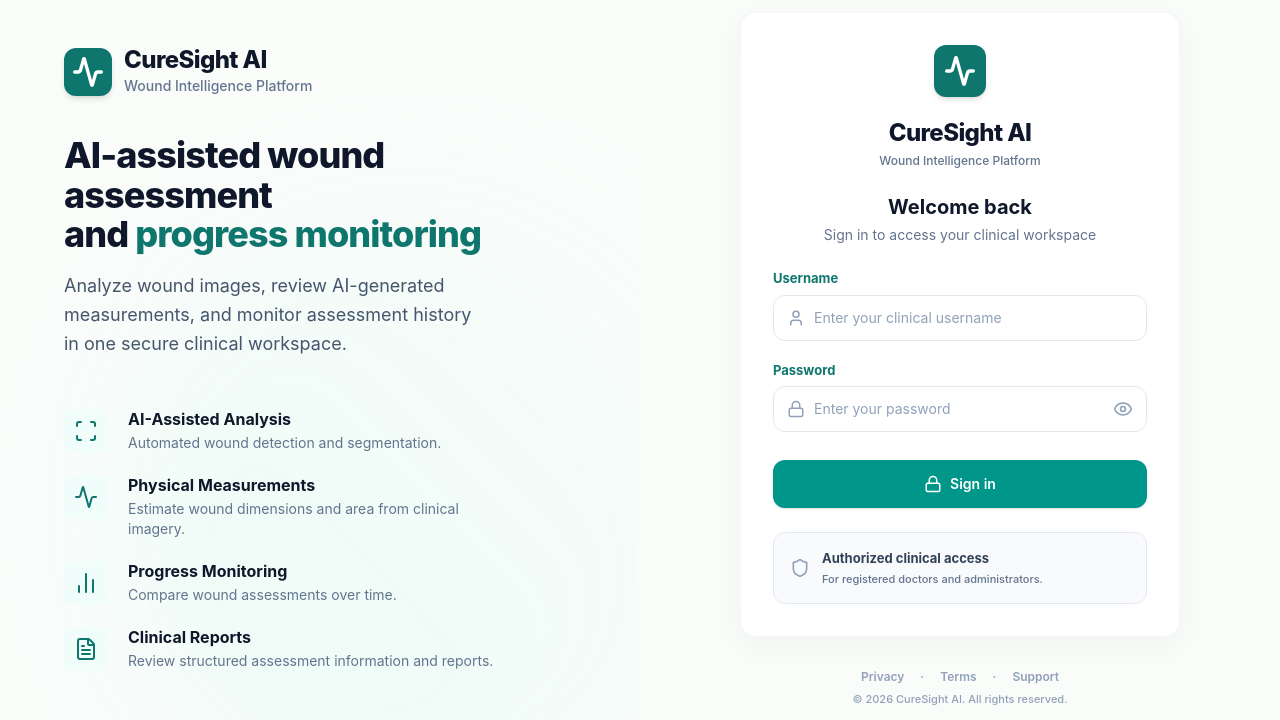
Login Flow & Error Handling › 2. Correctly handles HTTP 401 Unauthorized
Type "wronguser" into the field with placeholder "Enter your clinical username" at (960, 318), box top-left (773, 295), bottom-right (1147, 341)
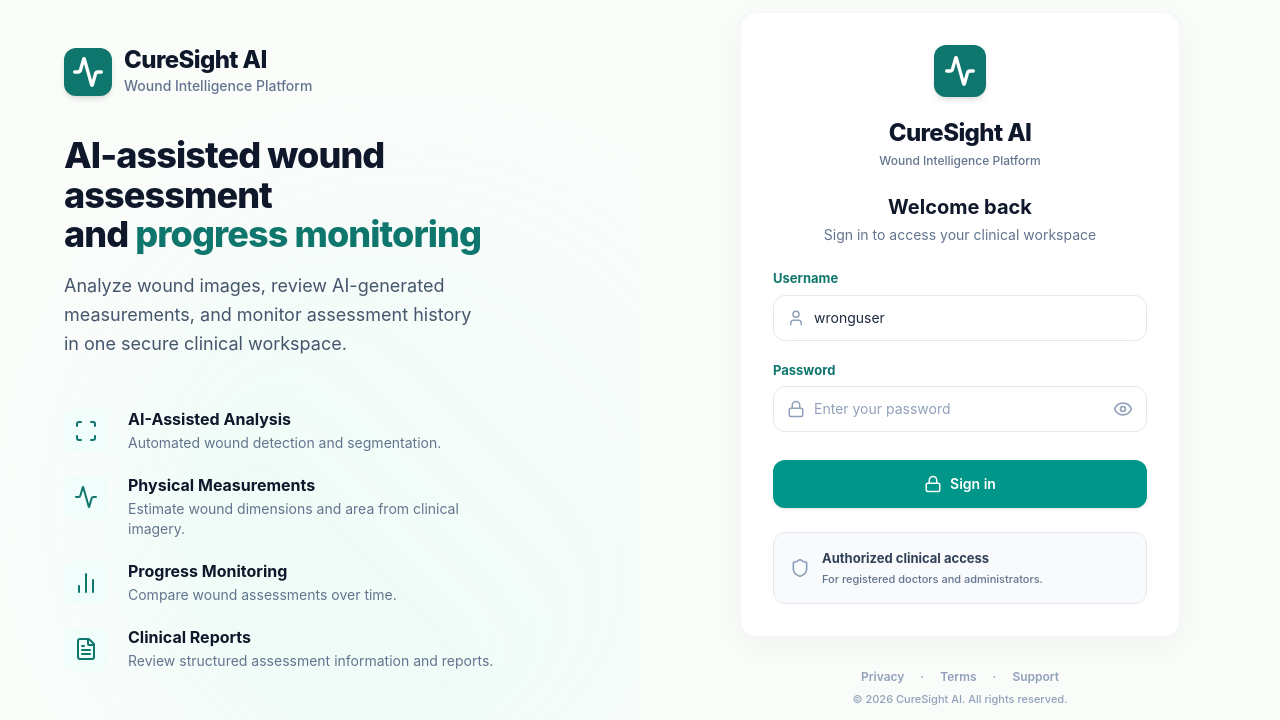
Type "wrongpass" into the password field with placeholder "Enter your password" at (960, 409), box top-left (773, 386), bottom-right (1147, 432)
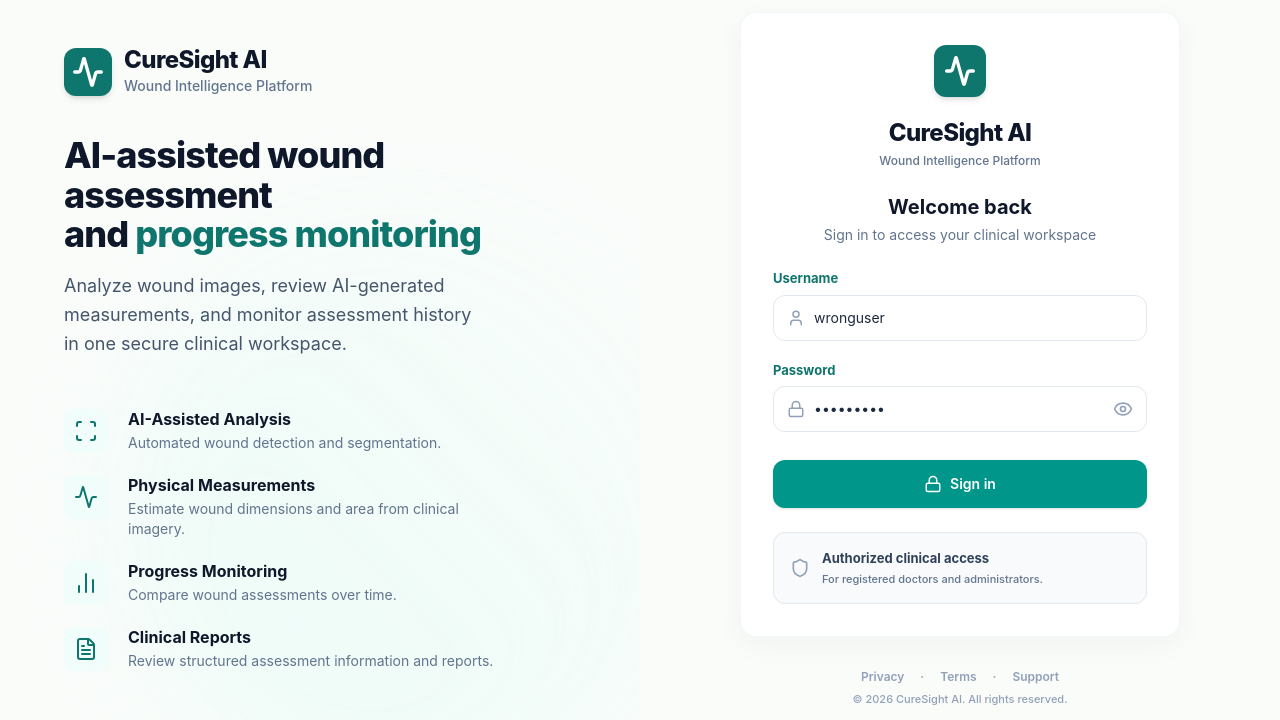
Click the button "Sign in" at (960, 484), box top-left (773, 460), bottom-right (1147, 508)
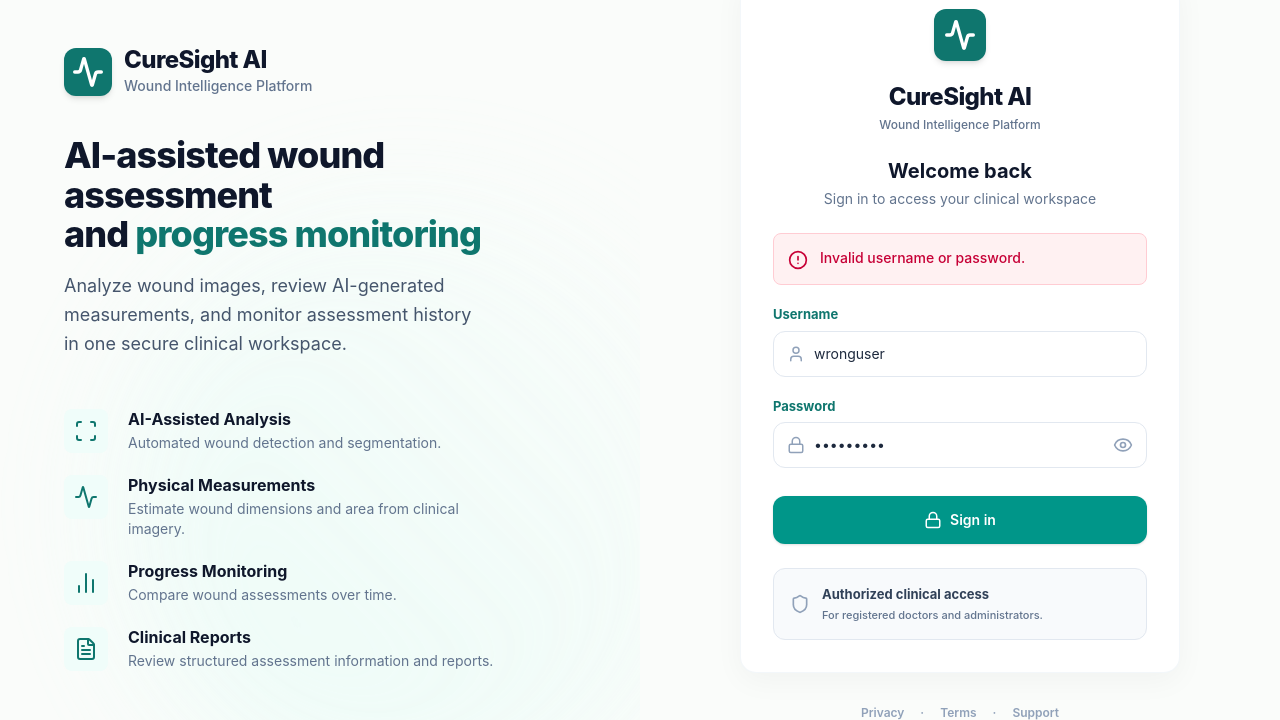
Result: the text "Invalid username or password." is shown at top-left (820, 248), bottom-right (1025, 268)
